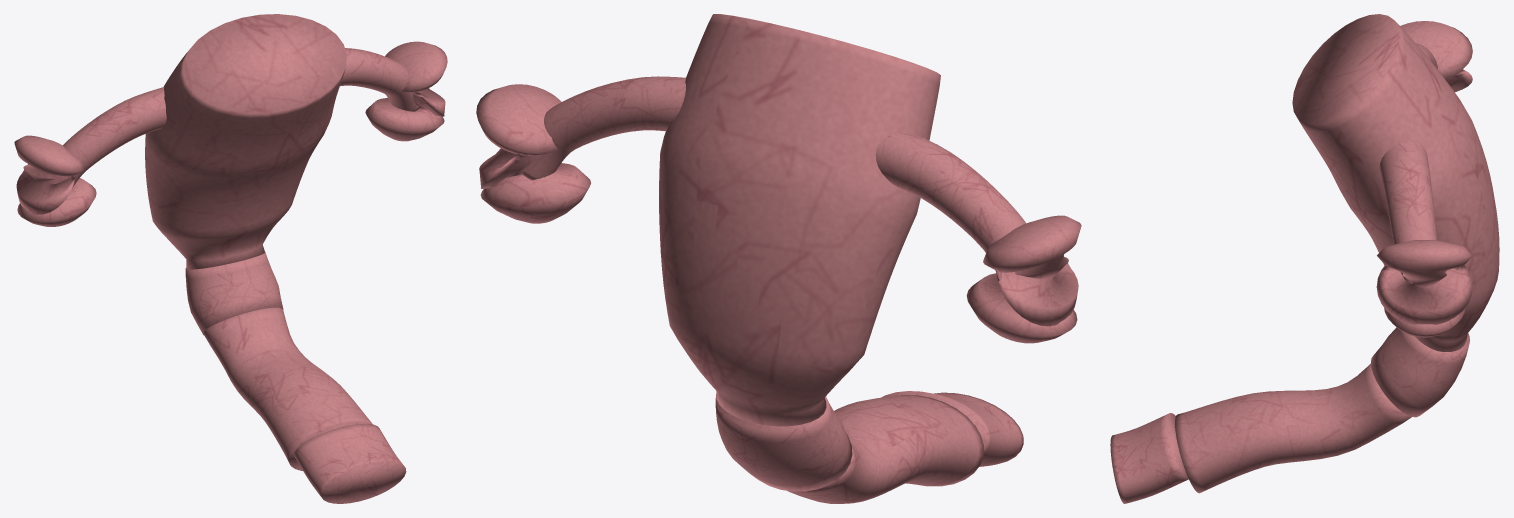
The model's file is reproductive-female.glb.
3 views of the same model, side by side, from view 1: azimuth 30°, elevation 25°; view 2: azimuth 150°, elevation 25°; view 3: azimuth 270°, elevation 25° (orthographic). The views are drawn at different scales.
Visible parts, largest first — view 1: Uterus, Vagina, Vulva, Ovary.l, Cervix, Ovary.r, Uterine tube.l, Uterine tube.r; view 2: Uterus, Vagina, Ovary.l, Ovary.r, Uterine tube.l, Cervix, Uterine tube.r, Vulva; view 3: Uterus, Vagina, Ovary.r, Cervix, Vulva, Uterine tube.r, Ovary.l.
Part boxes in pixels (x1,y1,x2,y2): Uterus: (145,14,346,269); Vagina: (203,307,372,470); Vulva: (294,423,406,503); Ovary.l: (14,135,96,226); Cervix: (185,252,283,335); Ovary.r: (365,41,447,141); Uterine tube.l: (49,87,166,187); Uterine tube.r: (340,48,421,111); Uterus: (659,14,940,426); Vagina: (788,395,983,503); Ovary.l: (966,215,1081,343); Ovary.r: (476,84,590,223); Uterine tube.l: (875,132,1025,272); Cervix: (715,394,852,491); Uterine tube.r: (521,76,685,180); Vulva: (881,391,1023,466); Uterus: (1292,14,1499,351); Vagina: (1175,363,1411,493); Ovary.r: (1376,240,1472,337); Cervix: (1371,327,1469,417); Vulva: (1110,413,1188,503); Uterine tube.r: (1379,141,1437,283); Ovary.l: (1400,21,1472,92).
Size of the model in its own units: 0.1279 by 0.1156 by 0.089.
8 materials, 8 textured.
